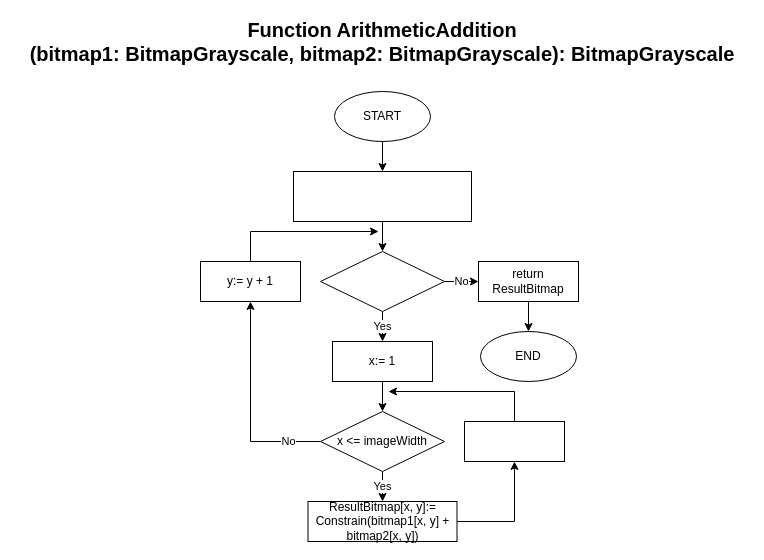
The diagram is 764 pixels wide and 560 high, and some of its shapes have lost their labels. Here are the shapes that lost their labels. From the top down, the centre of each, then its label:
(x=382, y=196): ResultBitmap: BitmapGrayscale y:= 1
(x=382, y=281): y <= imageHeight
(x=514, y=441): x:= x + 1
